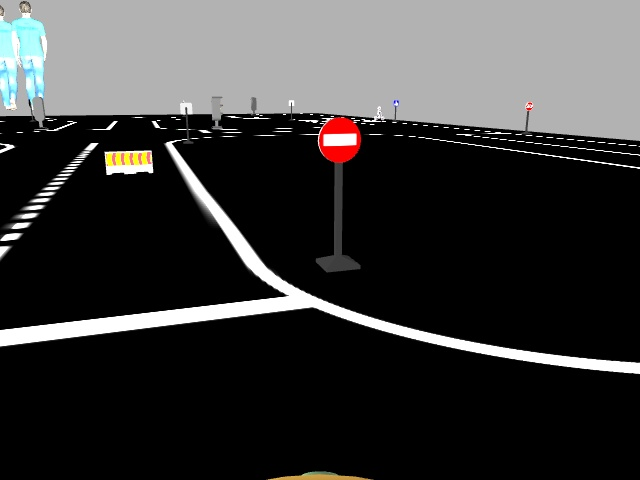ClosedRoadStand: (104, 152, 151, 172)
NoEntry: (319, 119, 359, 160)
